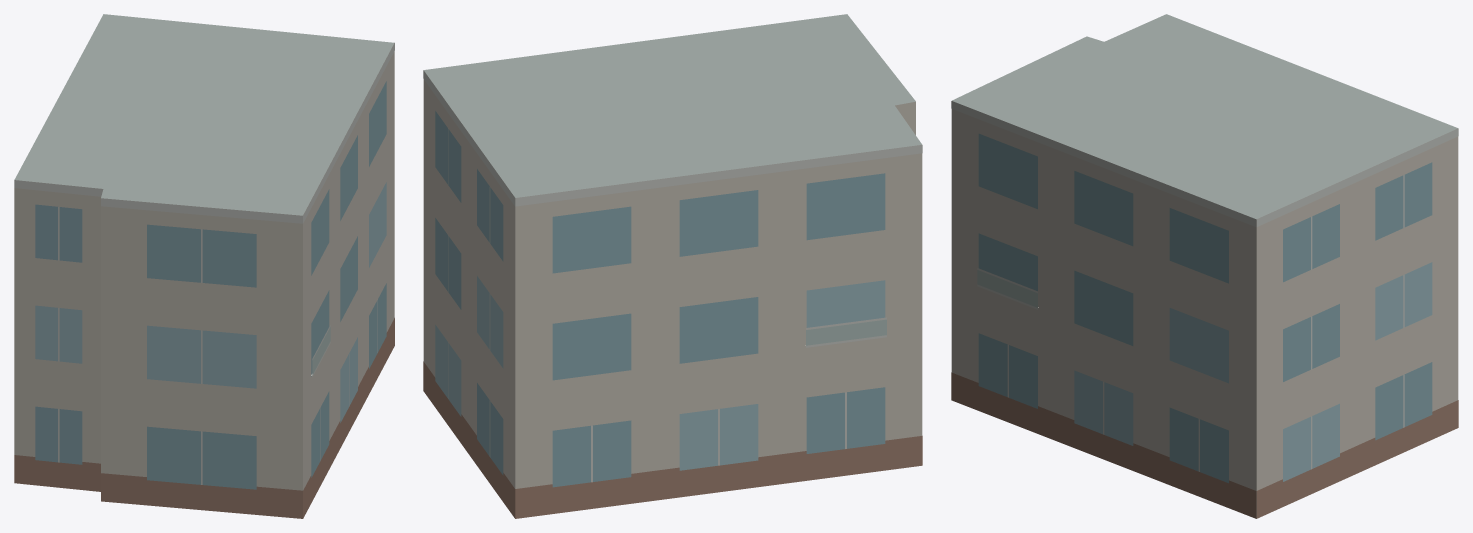
File: survey-upis-32786721.glb
3 renders of one model, left to right at view 1: azimuth 30°, elevation 25°; view 2: azimuth 150°, elevation 25°; view 3: azimuth 270°, elevation 25°, orthographic. The views are drawn at different scales.
Parts seen in each view (by area): view 1: survey-upis-32786721.tmp; view 2: survey-upis-32786721.tmp; view 3: survey-upis-32786721.tmp.
Part boxes in pixels (x1,y1,x2,y2): survey-upis-32786721.tmp: (14,14,394,518); survey-upis-32786721.tmp: (423,14,922,518); survey-upis-32786721.tmp: (951,14,1458,518).
Bounding box in the file's own units: 13.46 × 9.15 × 14.04.
